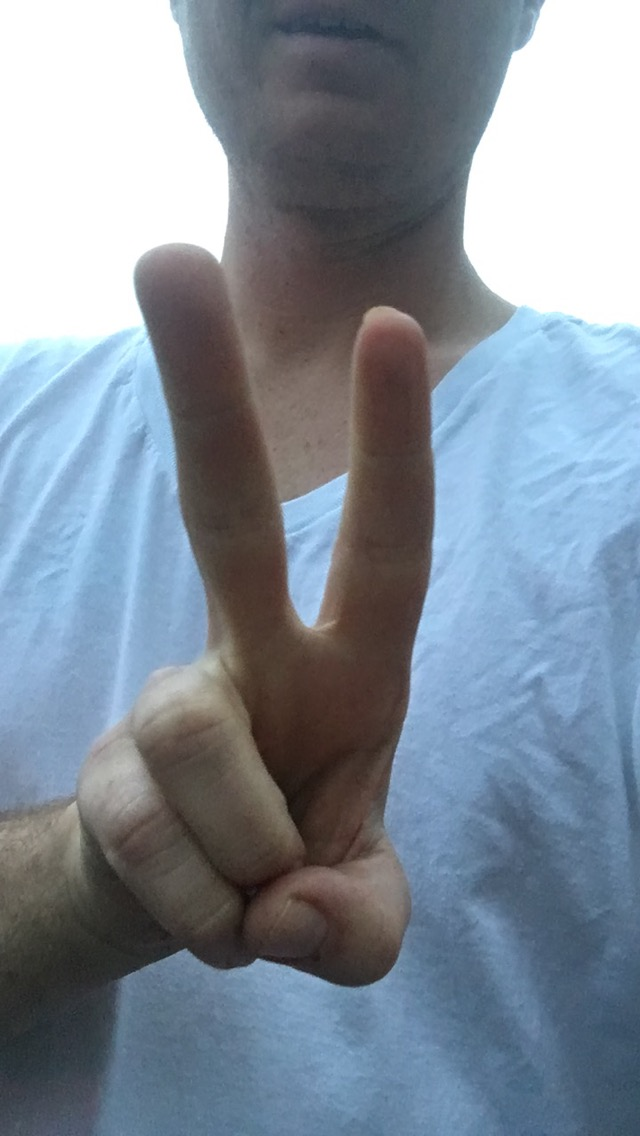defaultd: (80, 243, 439, 987)
